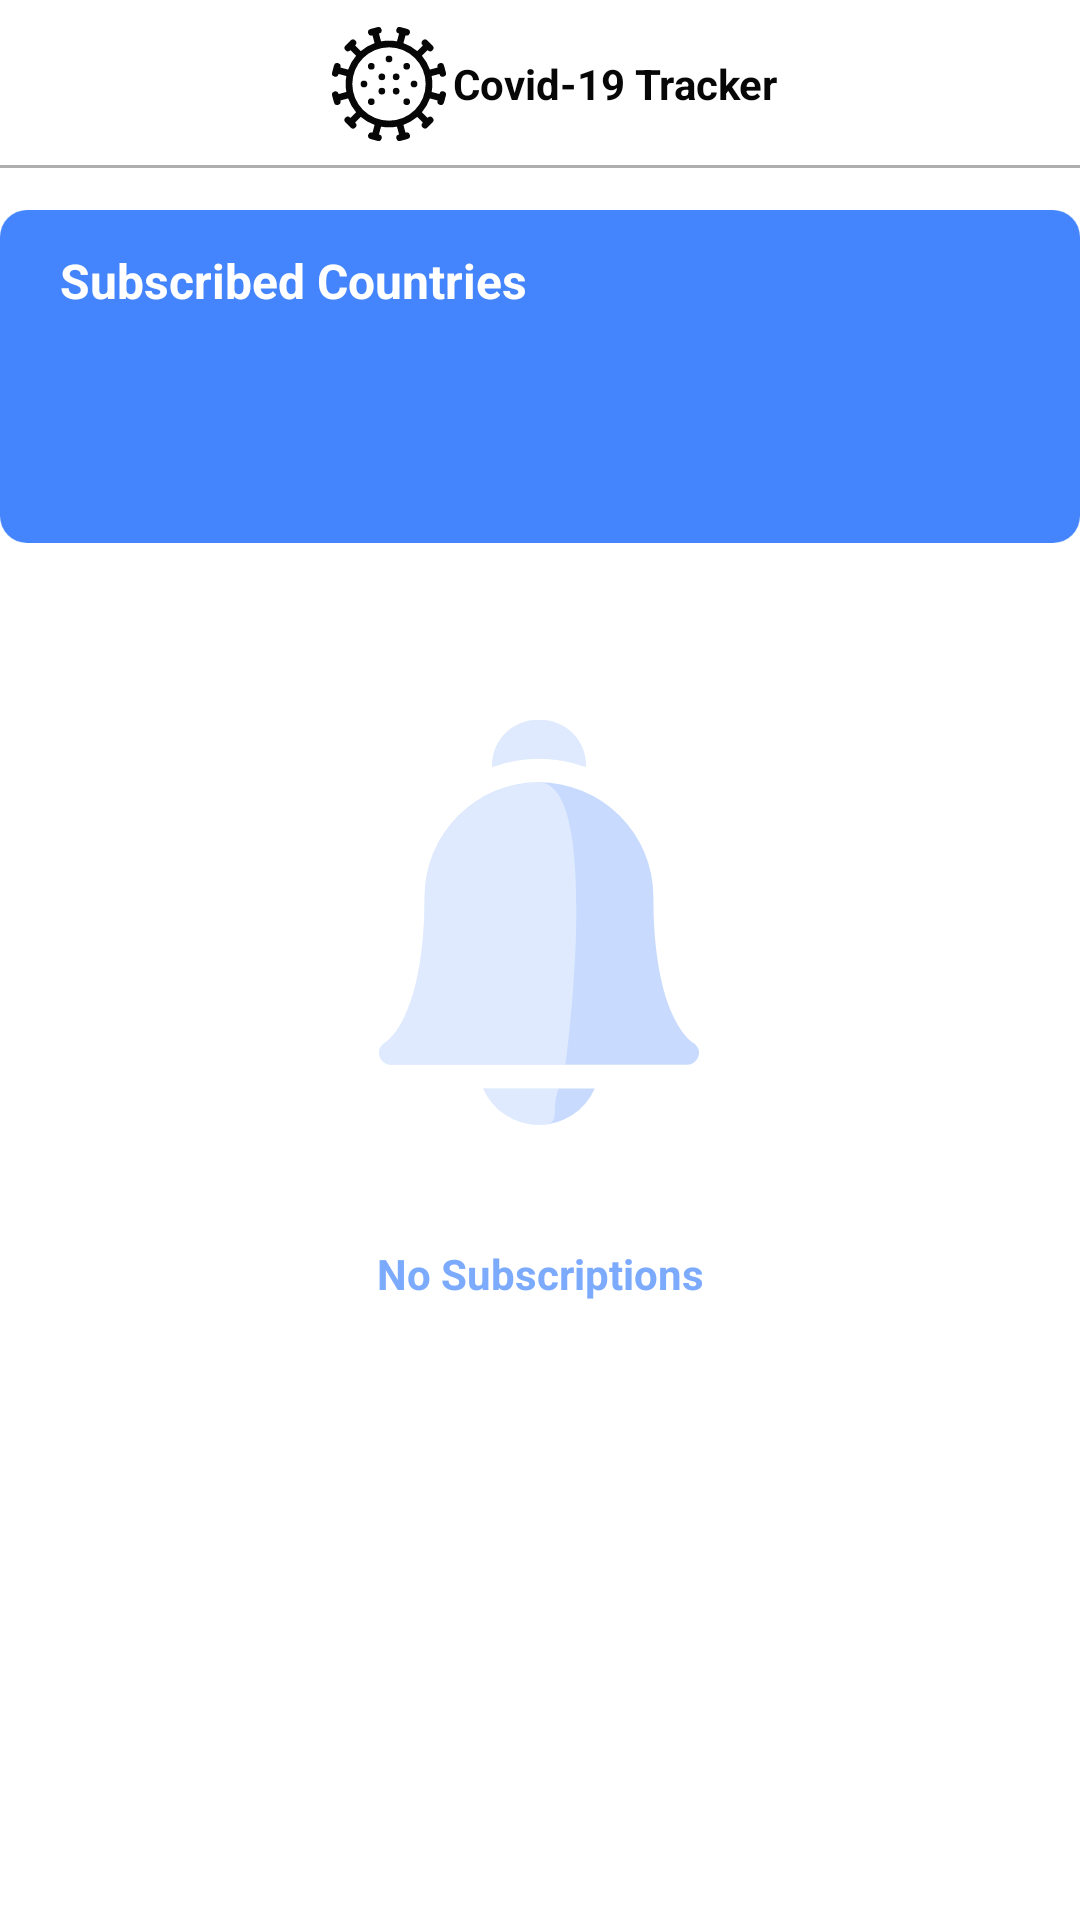

Named icons in this screenshot (1080 x 1920) and their bounding boxes, (x1, y1, x2, y2):
bactiria: (332, 27, 476, 141)
